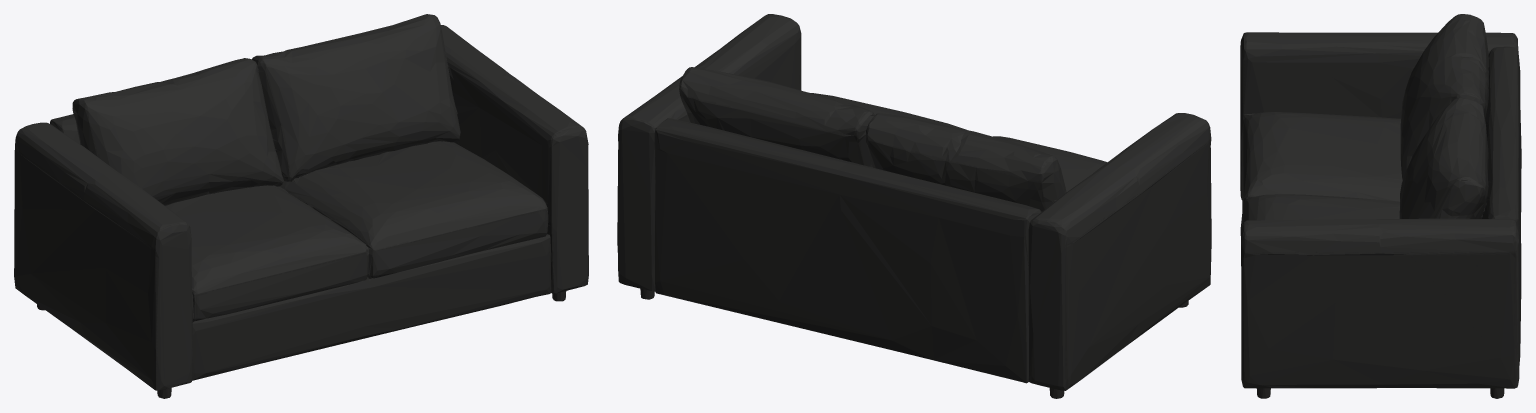
The picture shows the model from 3 angles, left to right: view 1: azimuth 30°, elevation 25°; view 2: azimuth 150°, elevation 25°; view 3: azimuth 270°, elevation 25°; orthographic projection. The views are drawn at different scales.
Parts seen in each view (by area): view 1: ProcessedGeometry; view 2: ProcessedGeometry; view 3: ProcessedGeometry.
Boxes of the visible parts, <box> form: ProcessedGeometry: <box>14,14,588,398</box>; ProcessedGeometry: <box>617,14,1211,398</box>; ProcessedGeometry: <box>1240,14,1521,398</box>.
Size of the model in its own units: 1.71 by 0.8 by 0.98.
2 materials, 2 textured.
